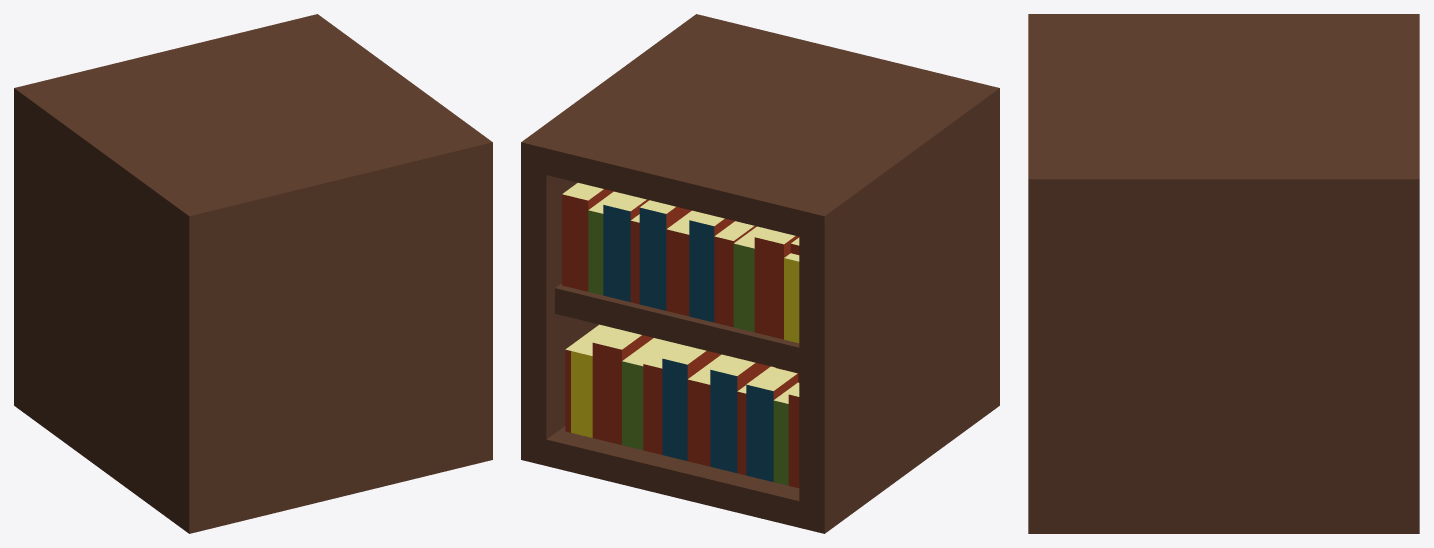
Rendered from bookshelfTileRotated.glb.
The picture shows the model from 3 angles, left to right: view 1: azimuth 30°, elevation 25°; view 2: azimuth 150°, elevation 25°; view 3: azimuth 270°, elevation 25°; orthographic projection. The views are drawn at different scales.
Parts seen in each view (by area): view 1: Cube; view 2: Cube; view 3: Cube.
Boxes of the visible parts, x1=… form: Cube: x1=14, y1=14, x2=492, y2=533; Cube: x1=521, y1=14, x2=999, y2=533; Cube: x1=1028, y1=14, x2=1419, y2=533.
Size of the model in its own units: 1 by 1 by 1.
Materials: 1 (1 with a texture image).
